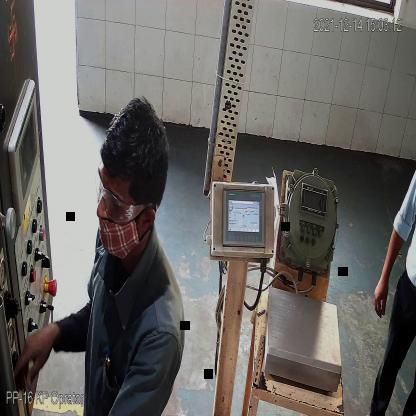goggles: (96, 178, 150, 222)
no_glove: (370, 223, 402, 321)
